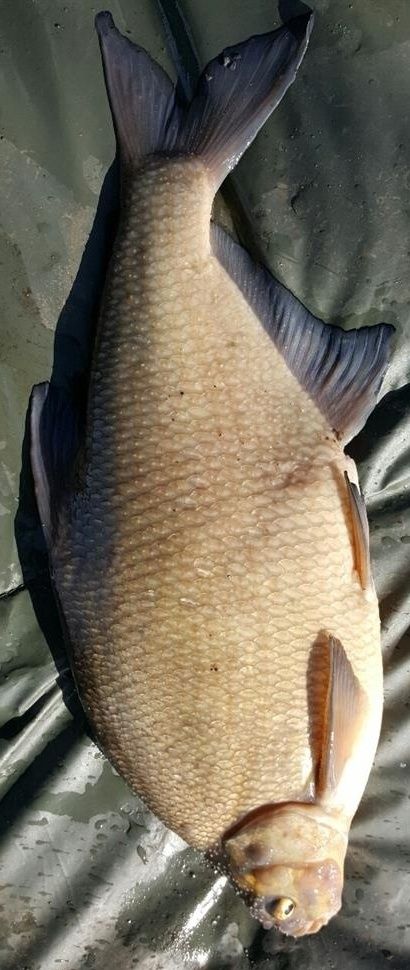Abramis brama: (20, 0, 390, 950)
